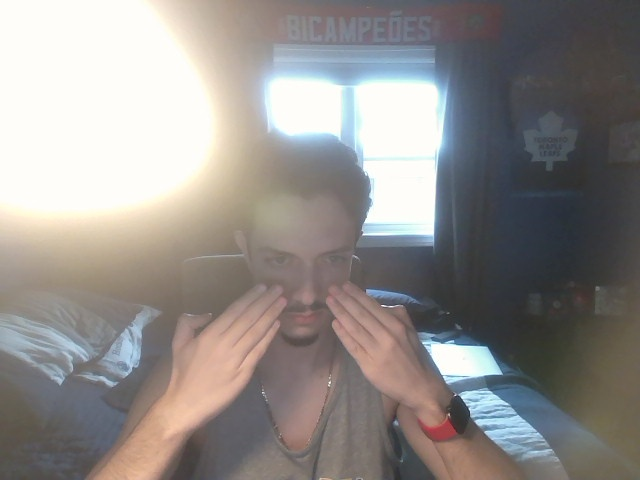ThankYou: (166, 279, 447, 420)
